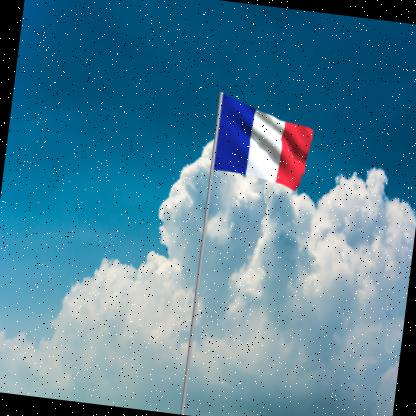fr: (214, 95, 317, 196)
